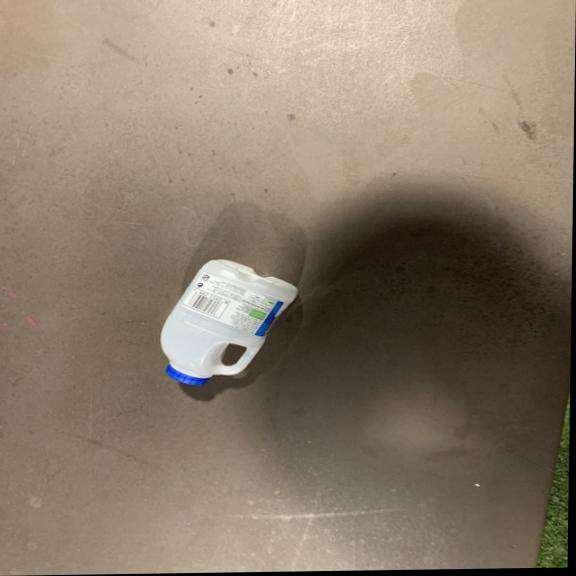Plastik: (154, 256, 306, 396)
